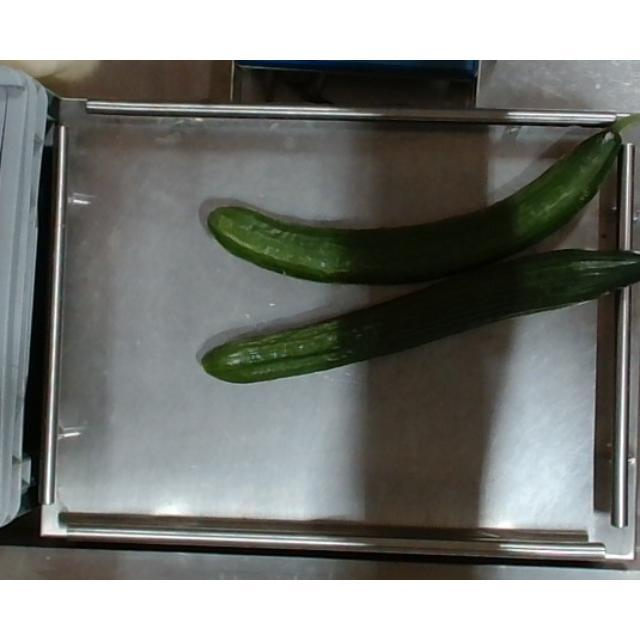cucumber: (204, 132, 626, 276), (194, 254, 640, 386)
